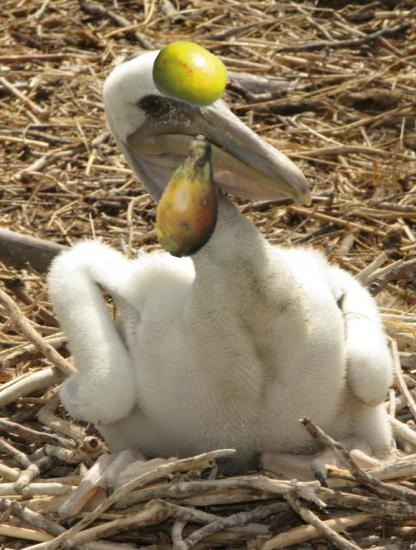Cactus: (130, 135, 255, 260)
Pomelo: (152, 37, 230, 115)
